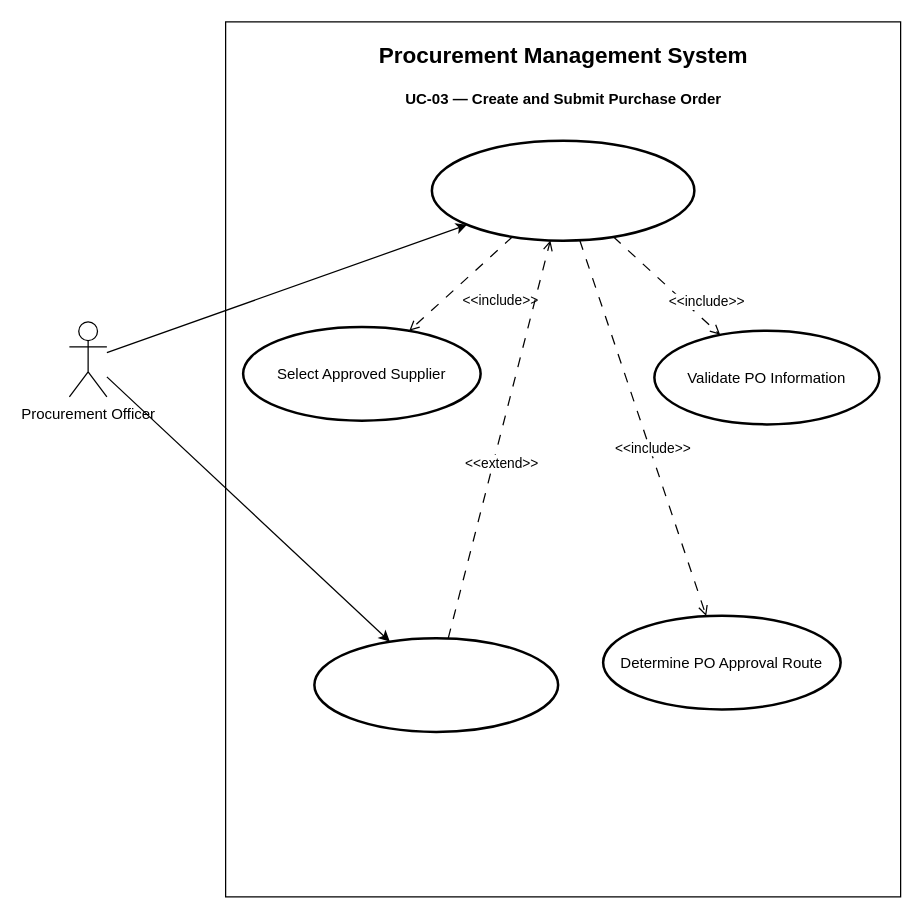
Some shapes in this 923 by 919 pixel diagram are drawn without their labels. Each missing label, with the centre of its shape:
Create and Submit Purchase Order: the point at 562,190
Revise Returned Purchase Order: the point at 435,684
